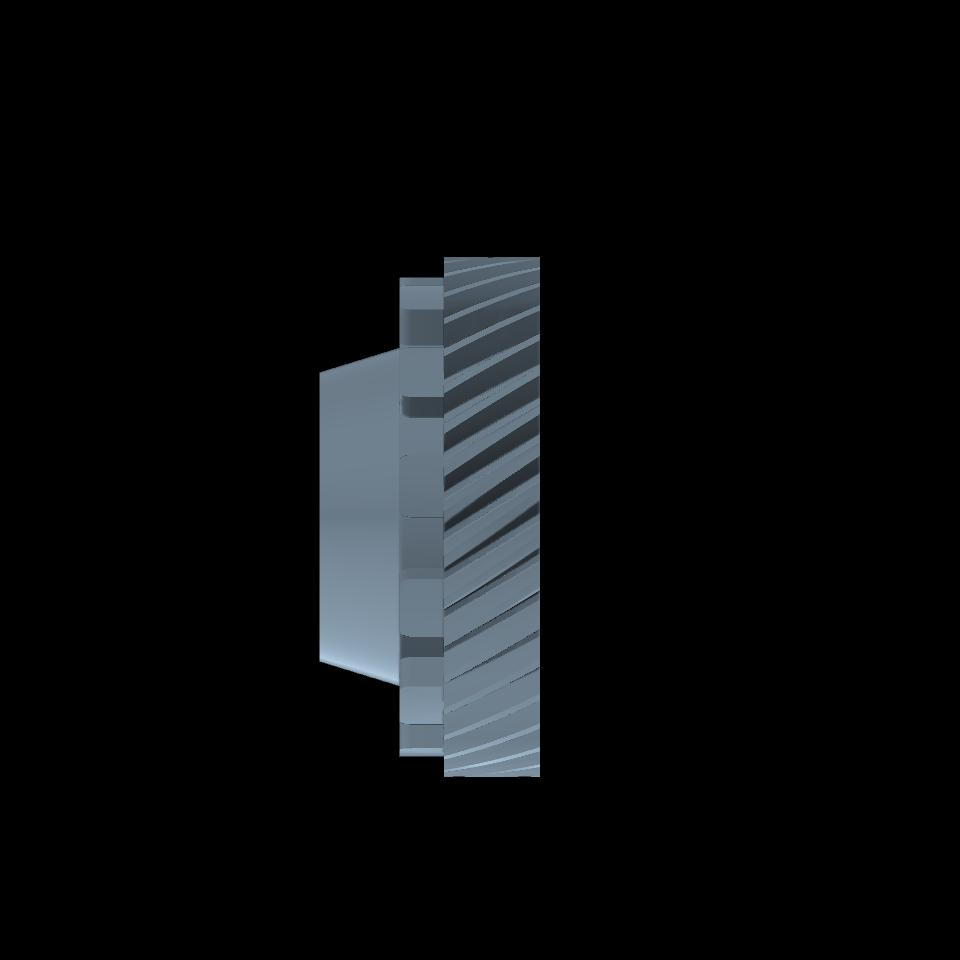Helical: (443, 258, 540, 778)
